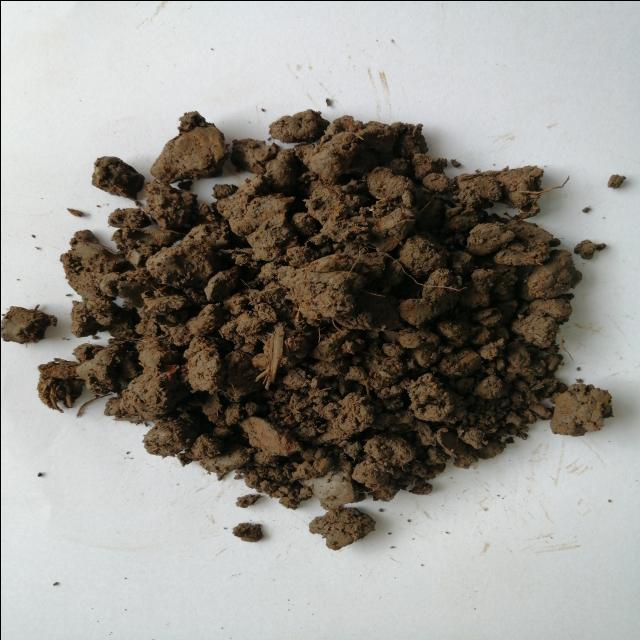soil: (88, 158, 516, 454)
